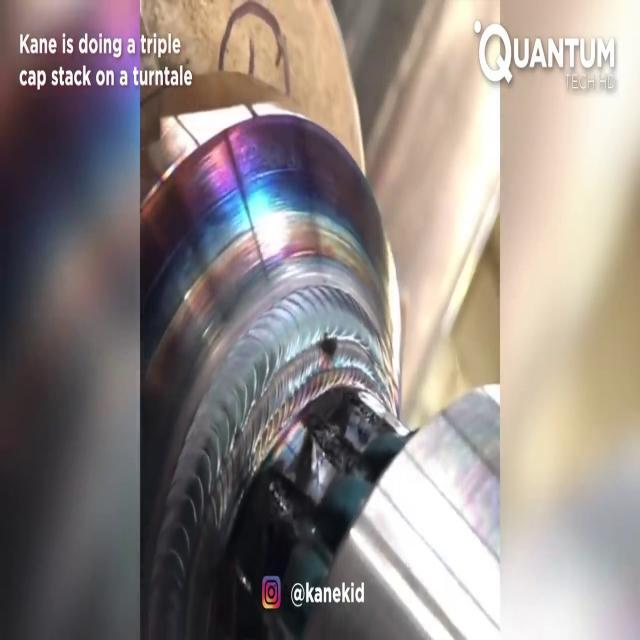Good Welding: (141, 116, 399, 636)
